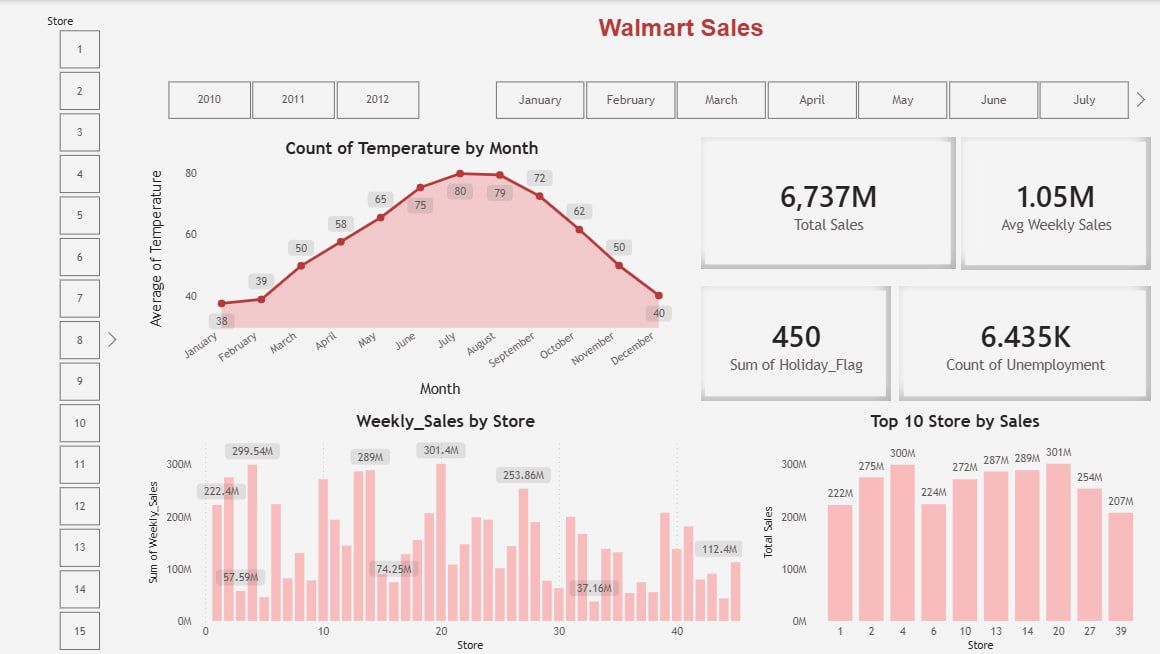

Layout of this report page (visuals, bound fields, positions):
{"tool":"powerbi","page":{"name":"Page ١","canvas":[1280,720],"ordinal":0},"visuals":[{"type":"slicer","fields":{"Values":["Dimention 1.Store"]},"box":[42.5,11,94.7,709.4],"z":0},{"type":"slicer","fields":{"Values":["Walmart_Sales.Date.Variation.Date Hierarchy.Month"]},"box":[521.4,82.3,745.1,54.9],"z":1000},{"type":"slicer","fields":{"Values":["Walmart_Sales.Date.Variation.Date Hierarchy.Year"]},"box":[161.9,82.3,325.2,54.9],"z":2000},{"type":"clusteredColumnChart","title":"Weekly_Sales by Store","fields":{"Category":["Dimention 1.Store"],"Y":["Sum(Walmart_Sales.Weekly_Sales)"]},"box":[161.9,451.5,661.4,269],"z":3000},{"type":"cardVisual","fields":{"Data":["Walmart_Sales.Total Sales"]},"box":[772.6,150.9,279.9,144.1],"z":4000},{"type":"cardVisual","fields":{"Data":["Sum(Walmart_Sales.Holiday_Flag)"]},"box":[772.6,314.2,208.6,126.2],"z":5000},{"type":"lineChart","title":"Count of Temperature by Month","fields":{"Category":["Walmart_Sales.Date.Variation.Date Hierarchy.Month"],"Y":["Avg(Walmart_Sales.Temperature)"]},"box":[161.9,150.9,587.3,289.5],"z":6000},{"type":"cardVisual","fields":{"Data":["CountNonNull(Walmart_Sales.Unemployment)"]},"box":[990.7,314.2,275.8,126.2],"z":7000},{"type":"textbox","box":[521.4,11,459.7,42.5],"z":8000},{"type":"clusteredColumnChart","title":"Top 10 Store by Sales","fields":{"Category":["Walmart_Sales.Store"],"Y":["Walmart_Sales.Total Sales"]},"box":[837.1,451.5,429.5,269],"z":9000},{"type":"cardVisual","fields":{"Data":["Table Measure.Avg Weekly Sales"]},"box":[1058,150.9,208.6,145.5],"z":9001}]}

Visuals, with their boxes in screenshot pixels (x1, y1, x2, y2), scaled from the page's 1280x720 canvas onto the 1160x654 screenshot:
slicer - Dimention 1.Store: Rect(39, 10, 124, 653)
slicer - Walmart_Sales.Date.Variation.Date Hierarchy.Month: Rect(473, 75, 1148, 125)
slicer - Walmart_Sales.Date.Variation.Date Hierarchy.Year: Rect(147, 75, 441, 125)
"Weekly_Sales by Store" clusteredColumnChart: Rect(147, 410, 746, 653)
cardVisual - Walmart_Sales.Total Sales: Rect(700, 137, 954, 268)
cardVisual - Sum(Walmart_Sales.Holiday_Flag): Rect(700, 285, 889, 400)
"Count of Temperature by Month" lineChart: Rect(147, 137, 679, 400)
cardVisual - CountNonNull(Walmart_Sales.Unemployment): Rect(898, 285, 1148, 400)
textbox: Rect(473, 10, 889, 49)
"Top 10 Store by Sales" clusteredColumnChart: Rect(759, 410, 1148, 653)
cardVisual - Table Measure.Avg Weekly Sales: Rect(959, 137, 1148, 269)
